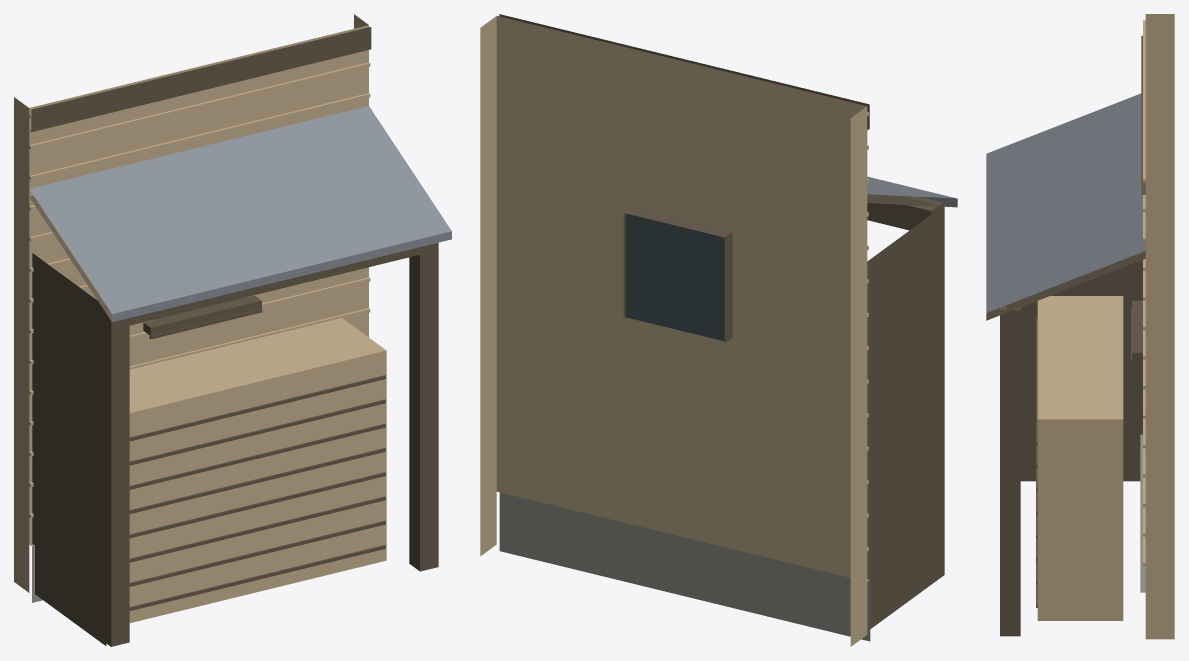
File: base-stair3_close.fbx
3 views of the same model, side by side, from view 1: azimuth 30°, elevation 25°; view 2: azimuth 150°, elevation 25°; view 3: azimuth 270°, elevation 25° (orthographic). The views are drawn at different scales.
Visible parts, largest first — view 1: a2015/0/base-stair_close; view 2: a2015/0/base-stair_close; view 3: a2015/0/base-stair_close.
Part boxes in pixels (x1,y1,x2,y2): a2015/0/base-stair_close: (14, 14, 451, 646); a2015/0/base-stair_close: (480, 14, 957, 646); a2015/0/base-stair_close: (986, 14, 1174, 639).
Size of the model in its own units: 2.2 by 3.05 by 1.1.
